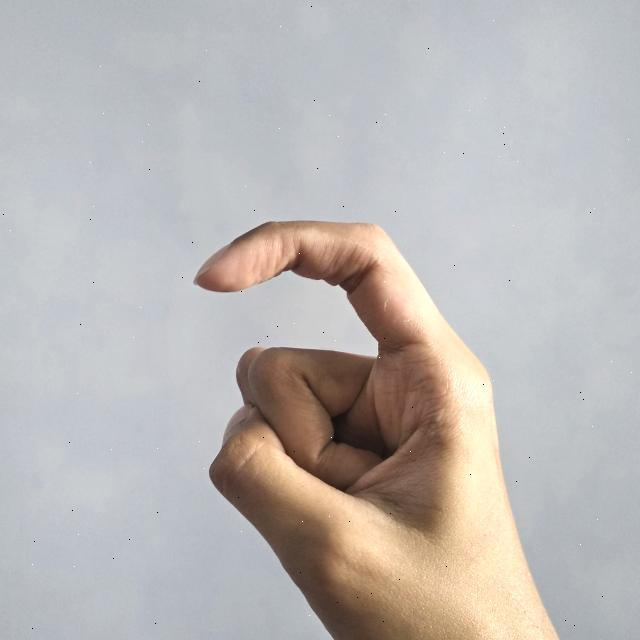X: (178, 201, 567, 640)
